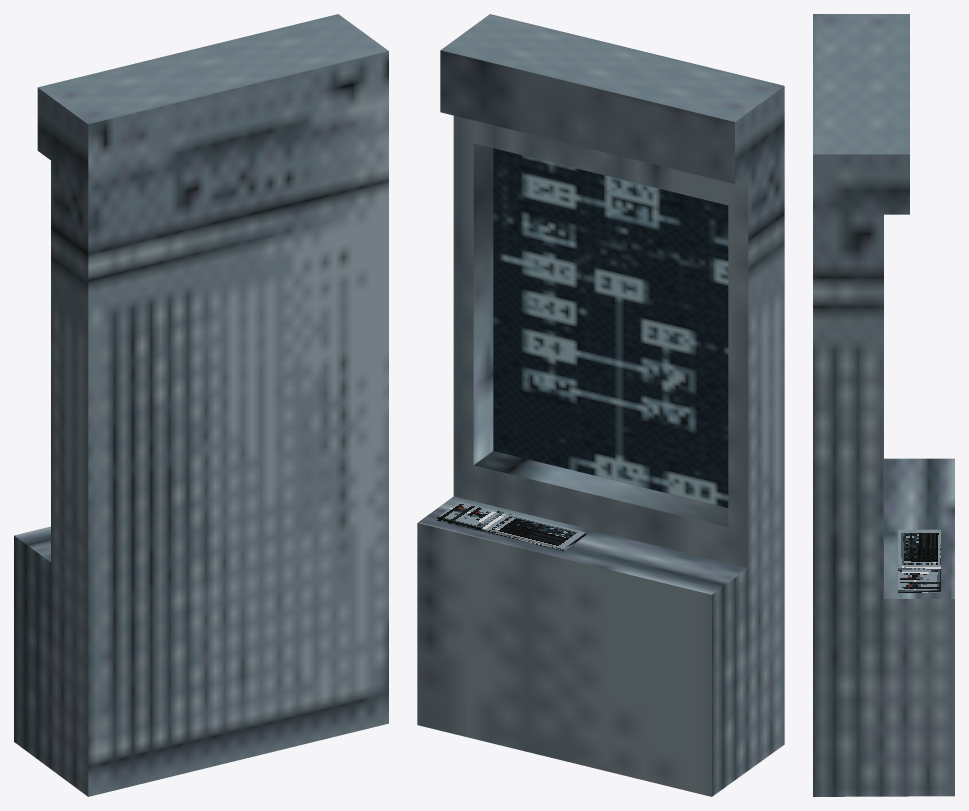
File: Screenwall.fbx
3 renders of one model, left to right at view 1: azimuth 30°, elevation 25°; view 2: azimuth 150°, elevation 25°; view 3: azimuth 270°, elevation 25°, orthographic. The views are drawn at different scales.
Parts seen in each view (by area): view 1: ScreenWall; view 2: ScreenWall; view 3: ScreenWall.
Boxes of the visible parts, x1,y1,x2,y2 form: ScreenWall: [14, 14, 388, 796]; ScreenWall: [417, 14, 784, 796]; ScreenWall: [813, 14, 954, 796].
Bounding box in the file's own units: 187 × 80 × 400.
Materials: 3 (3 with a texture image).
